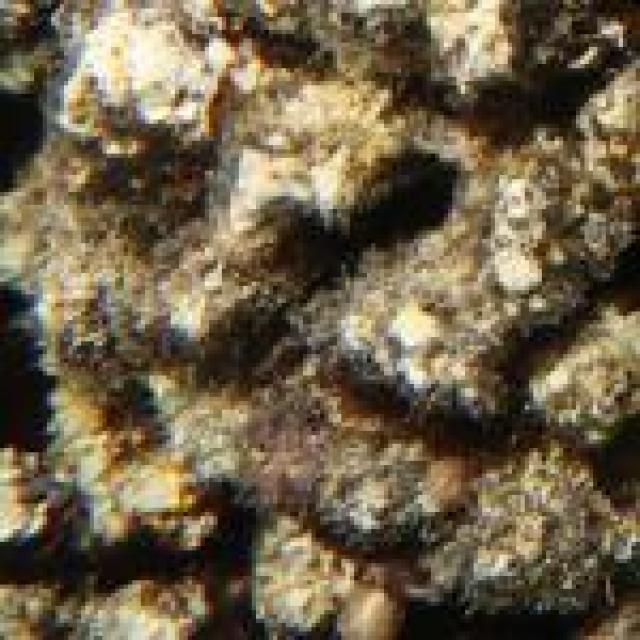Dead Coral: (432, 457, 640, 640), (516, 299, 640, 452), (297, 411, 418, 560)
